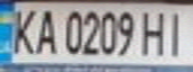0: (60, 6, 84, 56), (100, 7, 121, 57)
2: (78, 7, 103, 56)
9: (115, 7, 139, 56)
A: (30, 4, 60, 55)
H: (139, 7, 172, 57)
I: (160, 7, 193, 57)
K: (3, 4, 42, 55)
